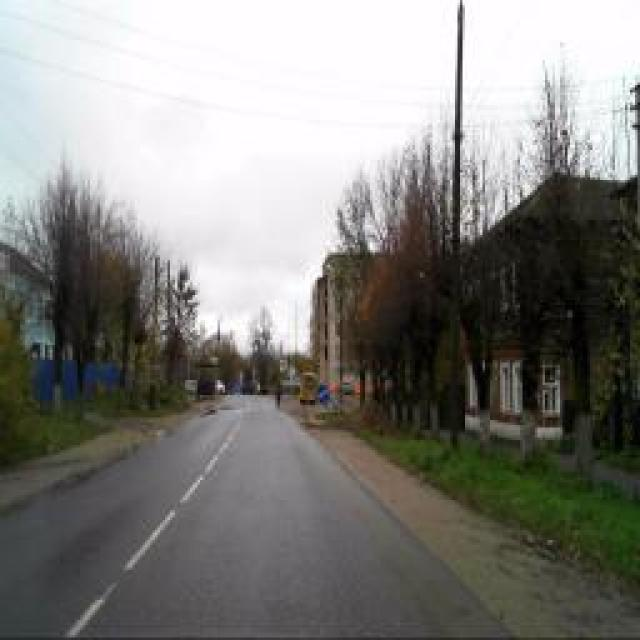sign: (316, 383, 329, 405)
